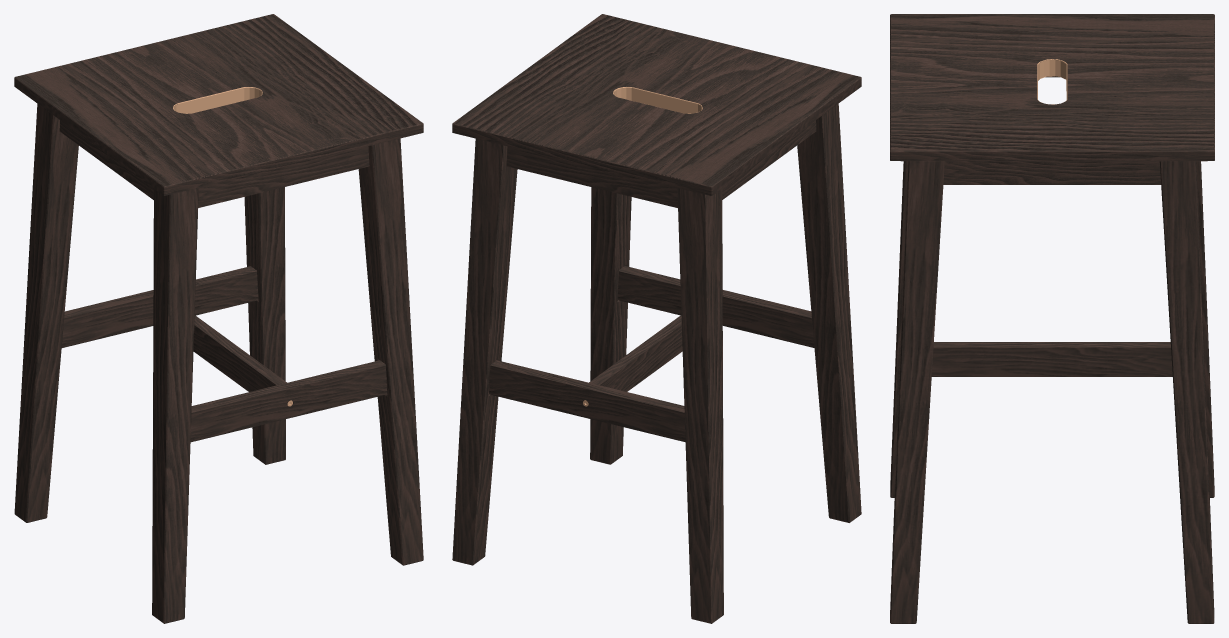
The model's file is tabouret.fbx.
3 views of the same model, side by side, from view 1: azimuth 30°, elevation 25°; view 2: azimuth 150°, elevation 25°; view 3: azimuth 270°, elevation 25° (orthographic). The views are drawn at different scales.
Visible parts, largest first — view 1: Cube.009; view 2: Cube.009; view 3: Cube.009.
Part boxes in pixels (x1,y1,x2,y2): Cube.009: [14, 14, 423, 623]; Cube.009: [452, 14, 861, 623]; Cube.009: [890, 14, 1214, 623].
Size of the model in its own units: 43.81 by 70.42 by 43.81.
